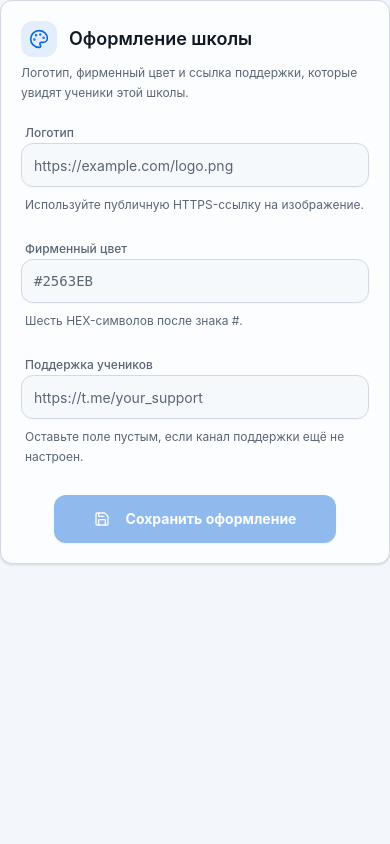
Test: SchoolBrandingCard › shows a request error and keeps the form editable
Type "#123456" into the field labelled "Фирменный цвет". click: (195,281)
box: [21,259,369,303]
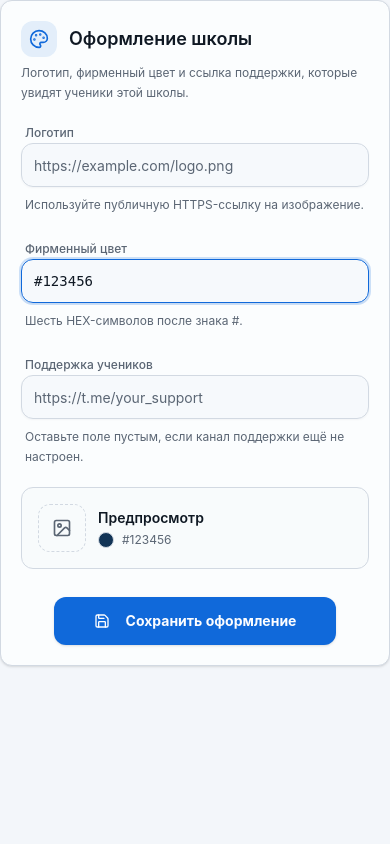
Click the button "Сохранить оформление". click: (195,621)
box: [54,597,336,645]
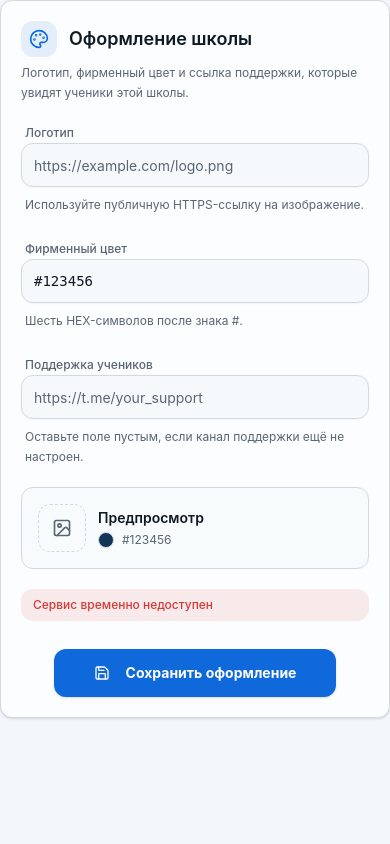
expect the field labelled "Фирменный цвет" is enabled: met, box [21,259,369,303]
expect the button "Сохранить оформление" is enabled: met, box [54,649,336,697]
expect the message reads "Сервис временно недоступен": met, box [33,597,213,612]
